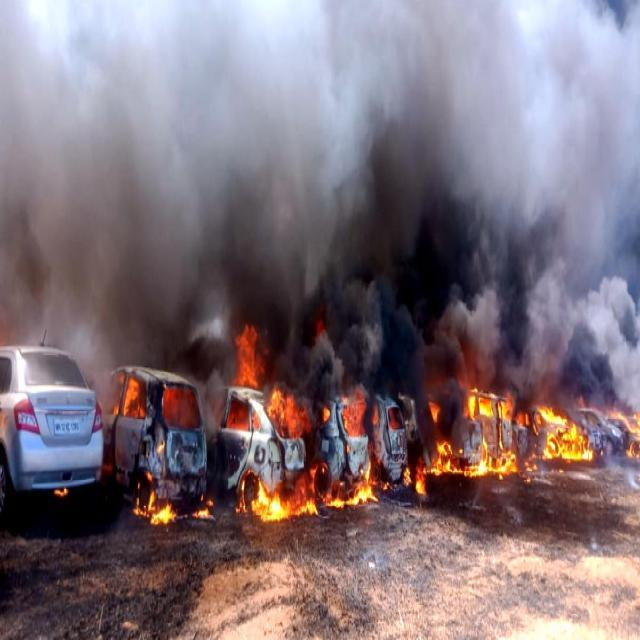Fire: (522, 405, 596, 464), (406, 440, 520, 477), (236, 472, 320, 518), (267, 392, 330, 440), (464, 385, 521, 438), (132, 468, 180, 526), (109, 368, 152, 423), (235, 320, 268, 390), (339, 386, 379, 438), (324, 474, 382, 509), (610, 409, 640, 462), (187, 492, 216, 523), (425, 396, 443, 426), (54, 484, 72, 498), (416, 478, 428, 498)
Smoke: (274, 0, 640, 381), (2, 3, 268, 314)
